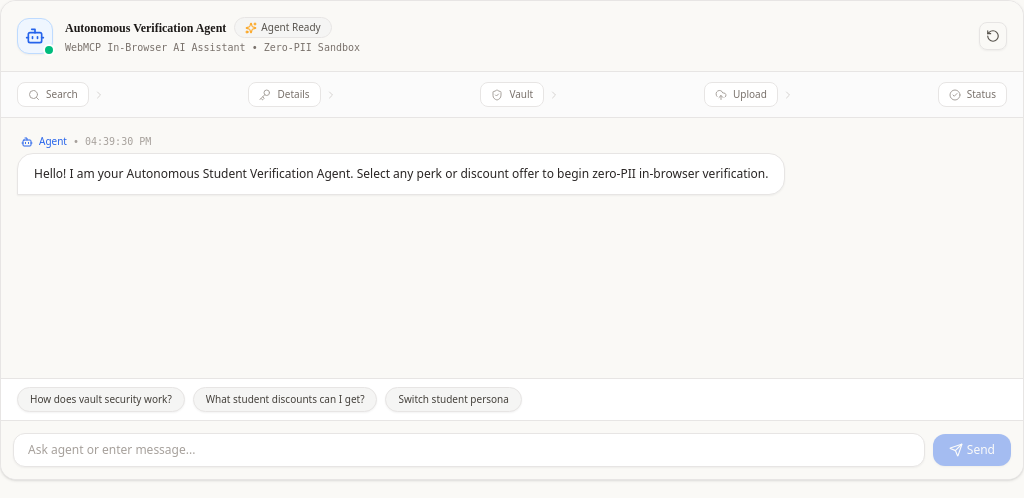
Test: AgentChat Component › allows user to send text messages in chat
Type "How does vault security work?" into the field with placeholder "Ask agent or enter message..." at point(469, 450), box [13,433,925,467]
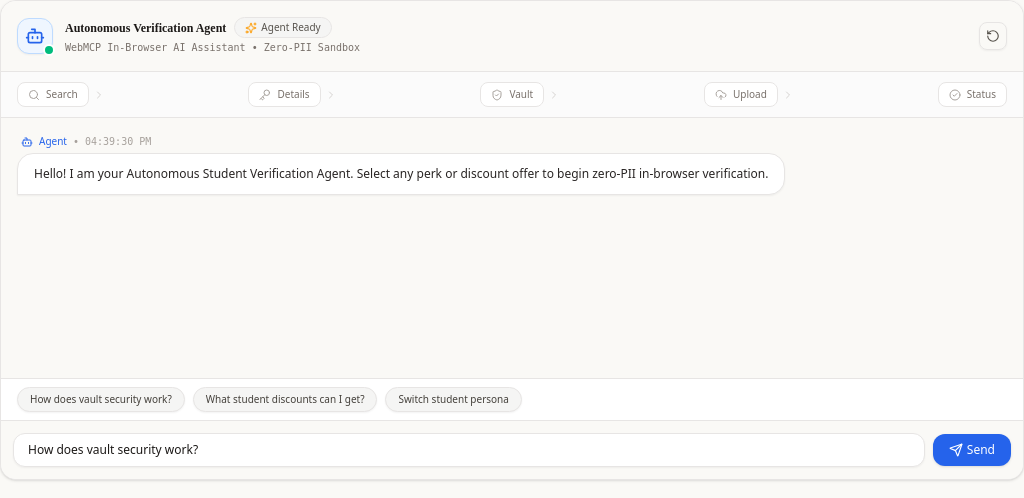
Click the button "Send" at point(972, 450), box [933,434,1011,466]
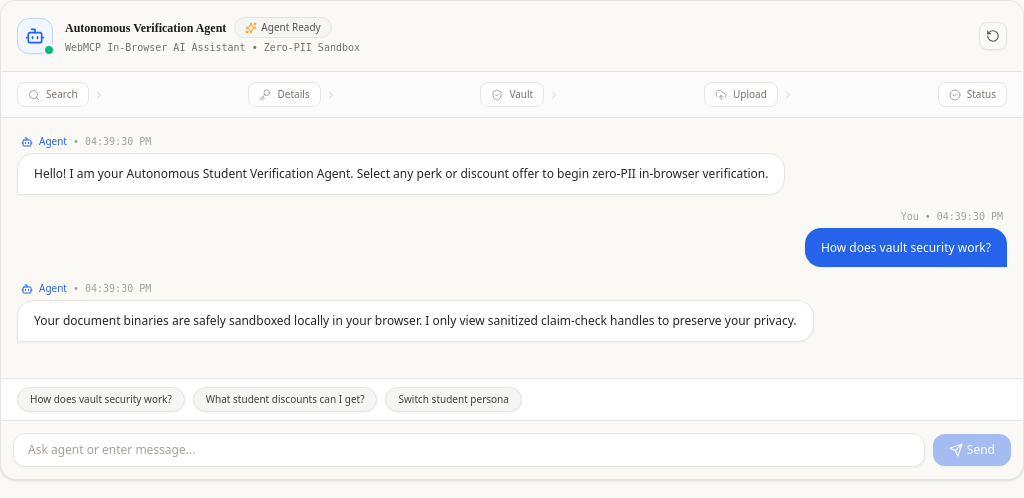
Check: the text "Your document binaries are safely sandboxed locally" is shown, box [34,312,796,329]
